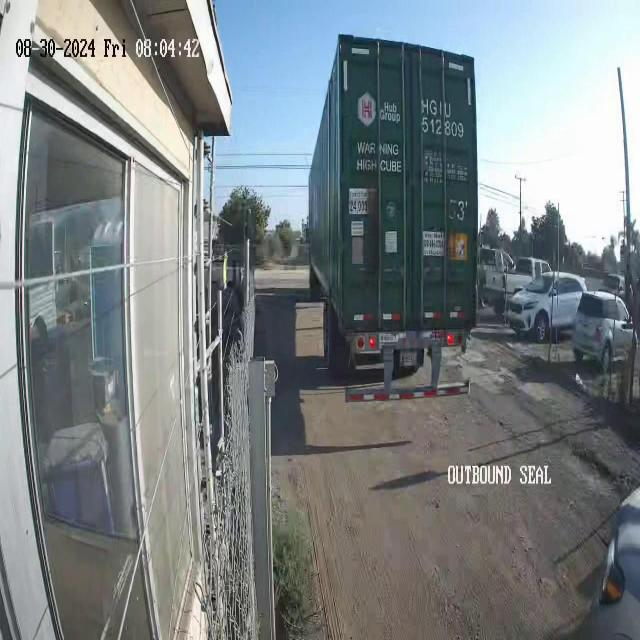TRUCK_OUT: (307, 31, 479, 389)
